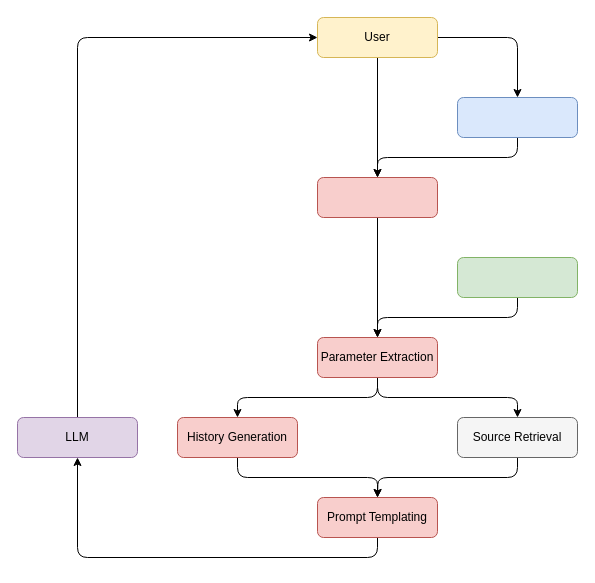
The diagram is 595 pixels wide and 583 high, and some of its shapes have lost their labels. Each missing label, with the box of its shape:
ChatBot: (456, 96, 578, 138)
GAIA API Endpoint: (316, 176, 438, 218)
Mongo DB: (456, 256, 578, 298)
